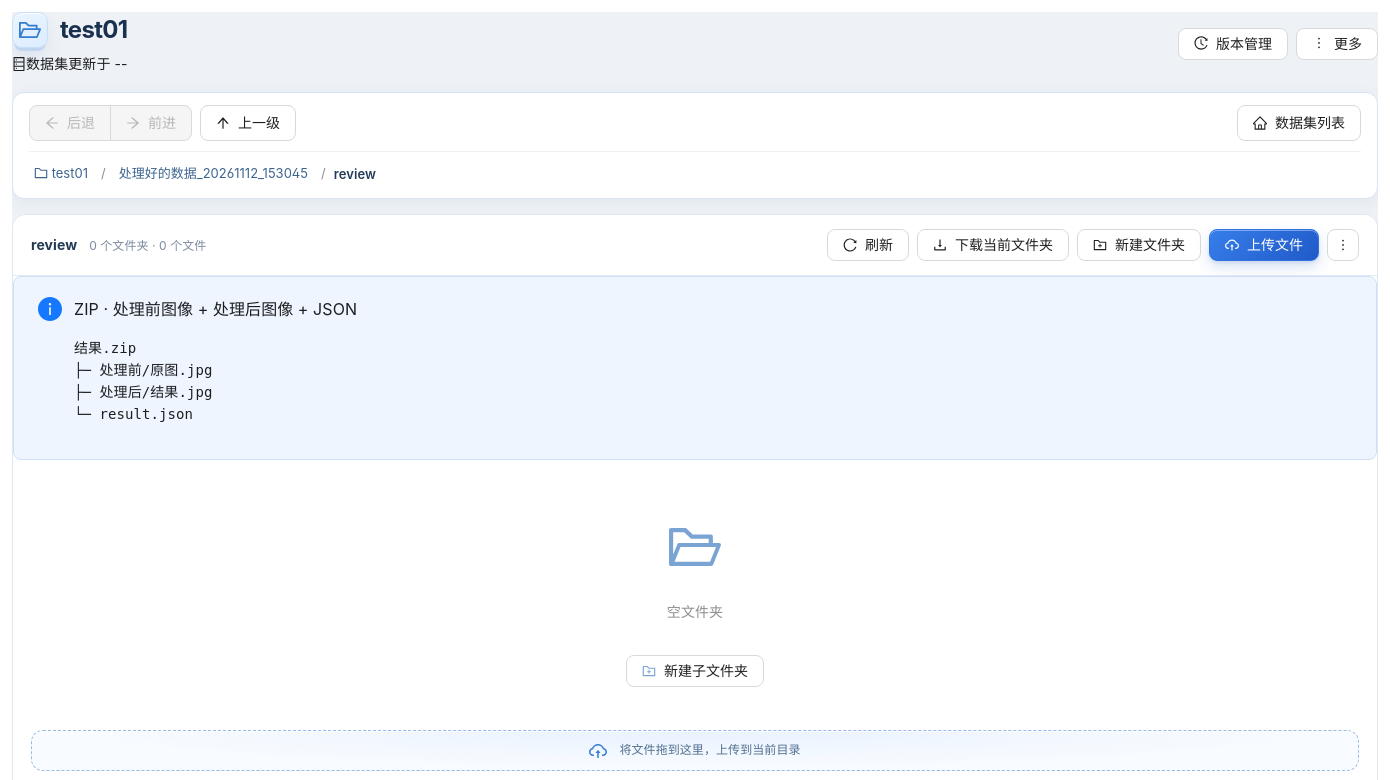
Test case: processed result upload controls › offers ZIP files and explains the required package while disabling loose folder selection
Expected: the button "上传文件" is enabled, left=1209, top=229, right=1319, bottom=261
Expected: the text "ZIP · 处理前图像 + 处理后图像 + JSON" is shown, left=74, top=299, right=357, bottom=319
Click the button named "更多上传选项" at (1343, 245), box left=1327, top=229, right=1359, bottom=261
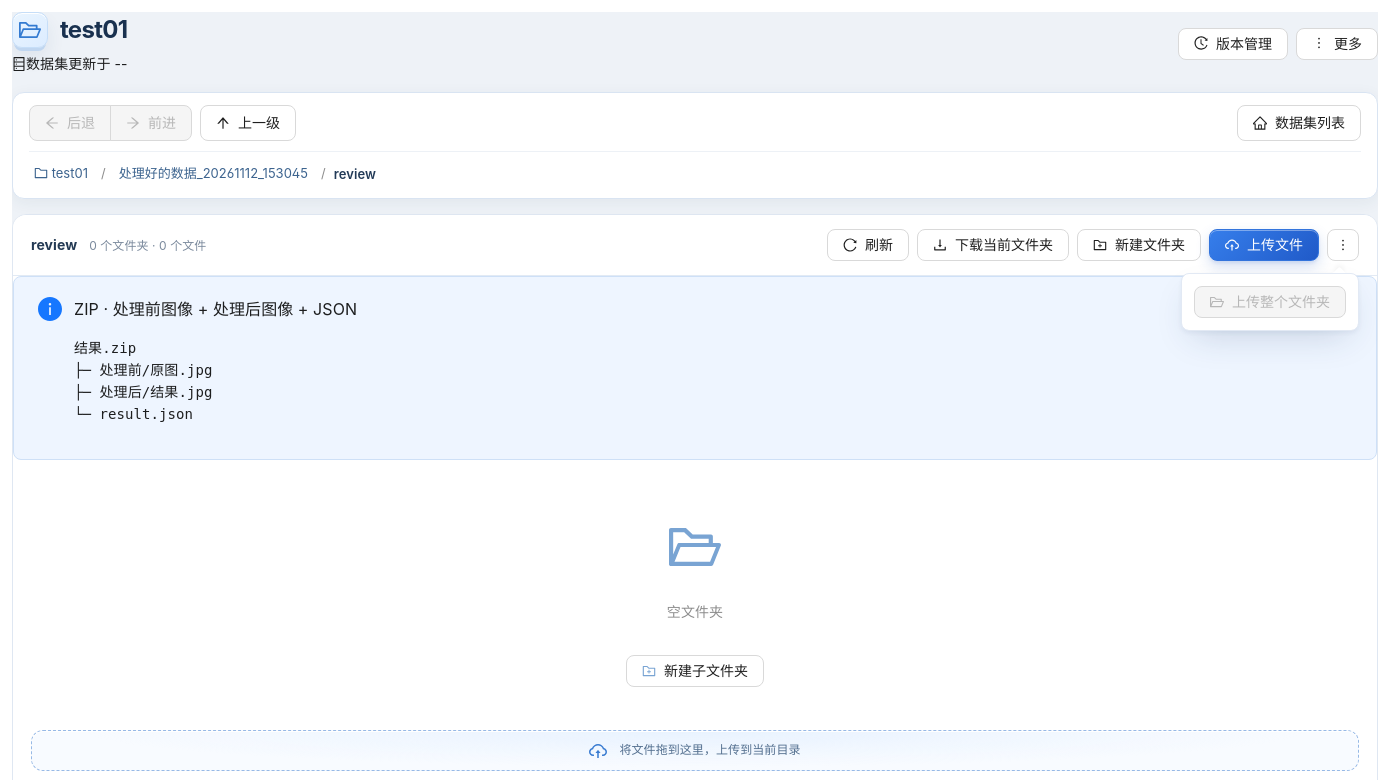
Expected: the button "上传整个文件夹" is disabled, left=1194, top=286, right=1346, bottom=318
